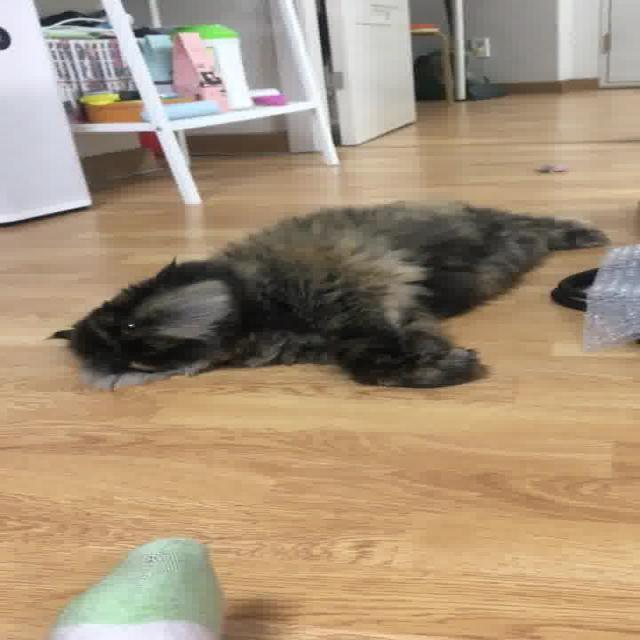cat: (39, 189, 622, 397)
